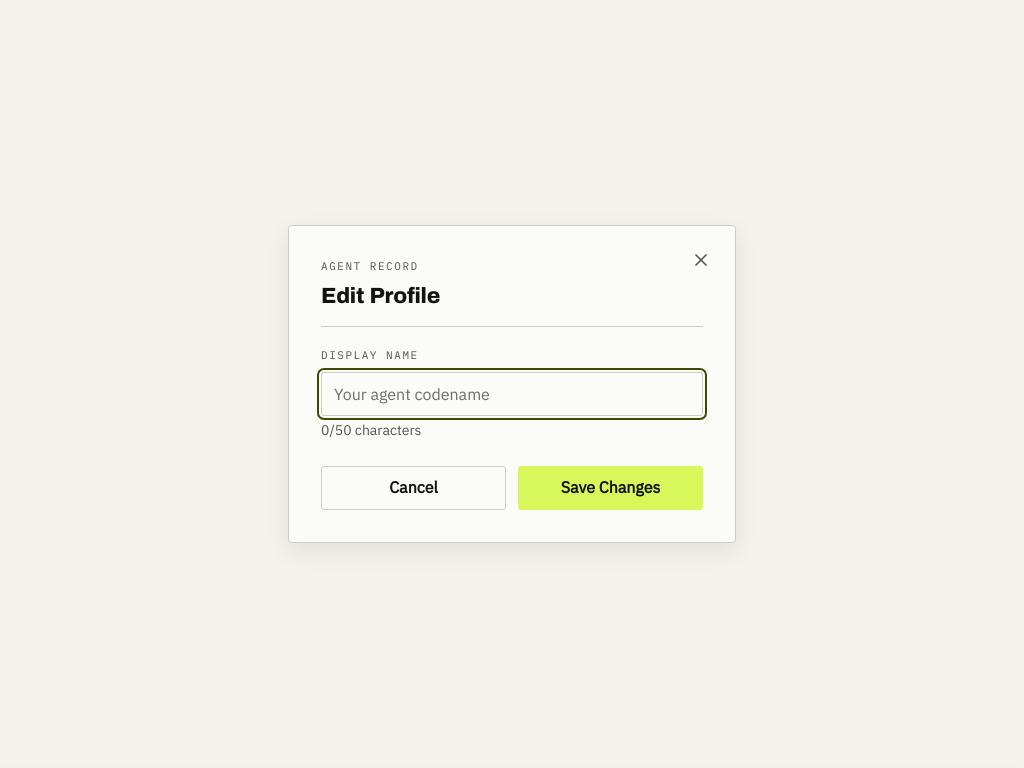
Test: ProfileEditModal › Validation › shows error for empty display name
Click the button "Save Changes": (610, 488) top-left (518, 466), bottom-right (703, 510)
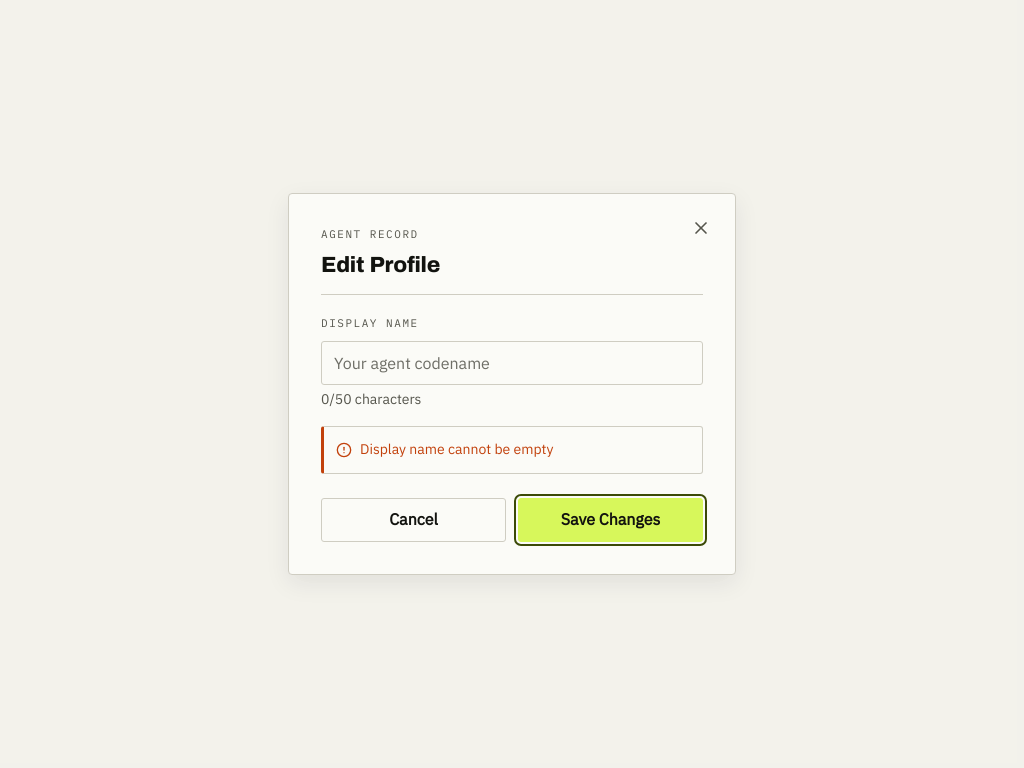
Check: the text "Display name cannot be empty" is shown, box top-left (321, 426), bottom-right (703, 474)
